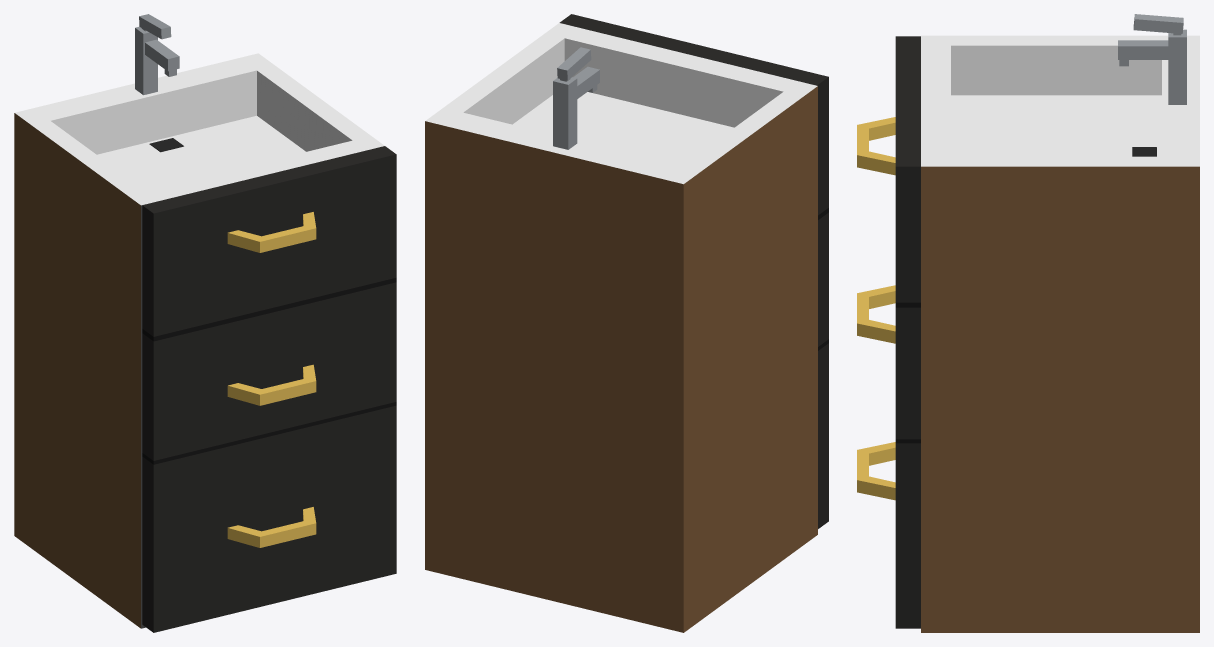
The model's file is Bath_Wash_basin_2B.fbx.
The picture shows the model from 3 angles, left to right: view 1: azimuth 30°, elevation 25°; view 2: azimuth 150°, elevation 25°; view 3: azimuth 270°, elevation 25°; orthographic projection. The views are drawn at different scales.
Parts seen in each view (by area): view 1: polySurface1857; view 2: polySurface1857; view 3: polySurface1857.
Part boxes in pixels (box(x1,y1,x2,y2)): polySurface1857: box(14, 14, 396, 632); polySurface1857: box(425, 14, 828, 632); polySurface1857: box(857, 14, 1199, 632).
Size of the model in its own units: 0.7754 by 1.52 by 0.8565.
Materials: 1 (1 with a texture image).
